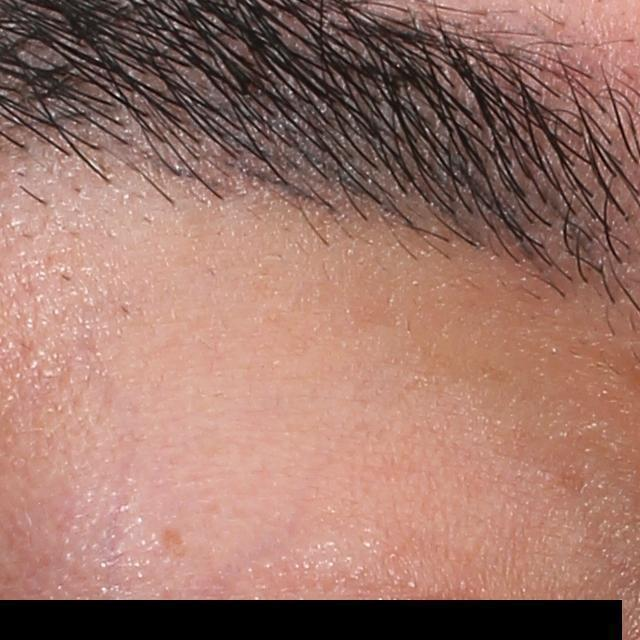melasma: (161, 523, 186, 555)
